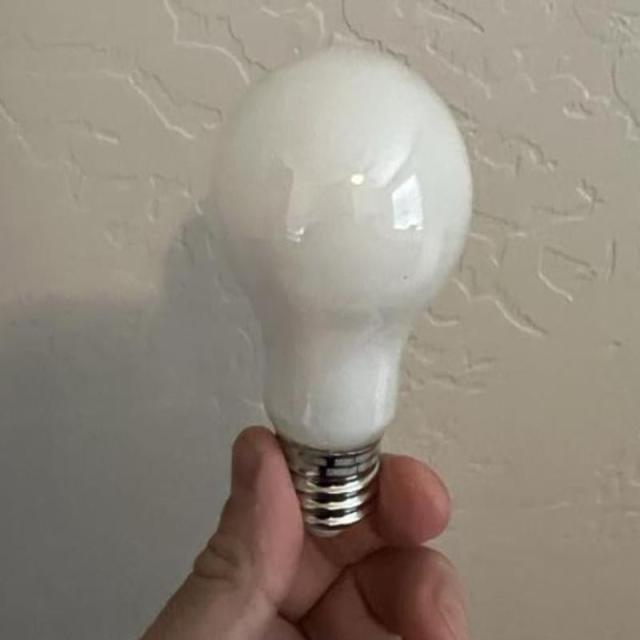bulb: (200, 35, 548, 542)
